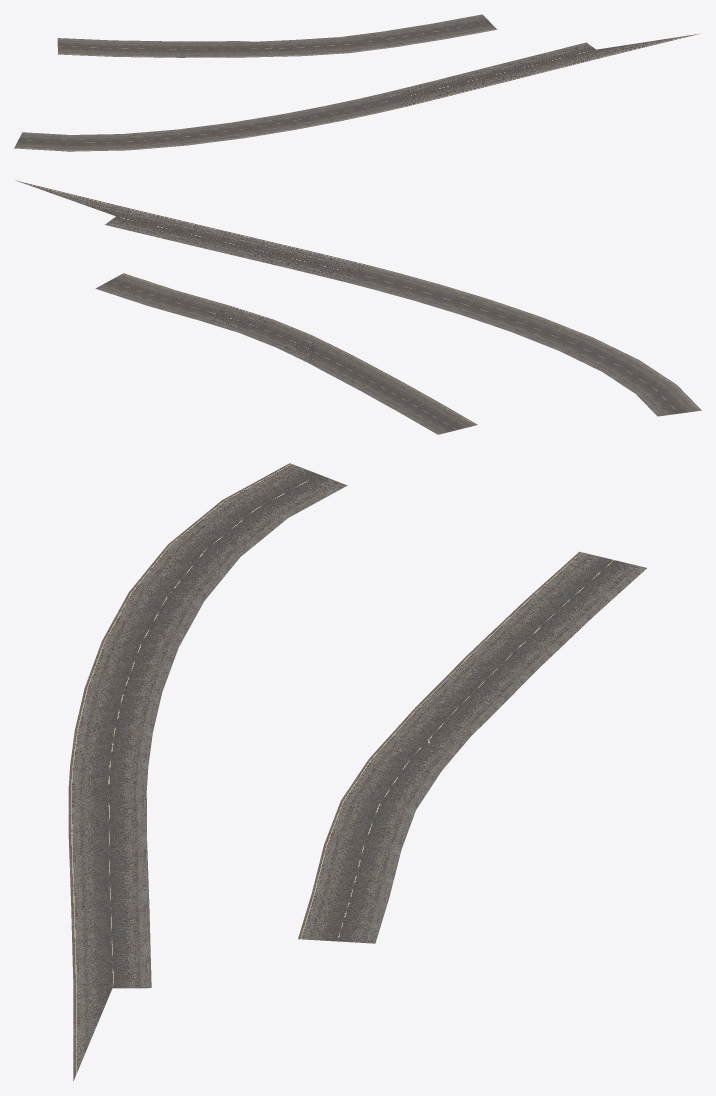
Rendered from cs_lodroads27.obj.
3 views of the same model, one above another, from view 1: azimuth 30°, elevation 25°; view 2: azimuth 150°, elevation 25°; view 3: azimuth 270°, elevation 25° (orthographic). The views are drawn at different scales.
Visible parts, largest first — view 1: cs_lodroads27; view 2: cs_lodroads27; view 3: cs_lodroads27.
Part boxes in pixels (x1,y1,x2,y2): cs_lodroads27: (14, 14, 699, 151); cs_lodroads27: (15, 180, 701, 434); cs_lodroads27: (68, 463, 646, 1081).
Size of the model in its own units: 225 by 4.72 by 88.78.
1 material, 1 textured.
